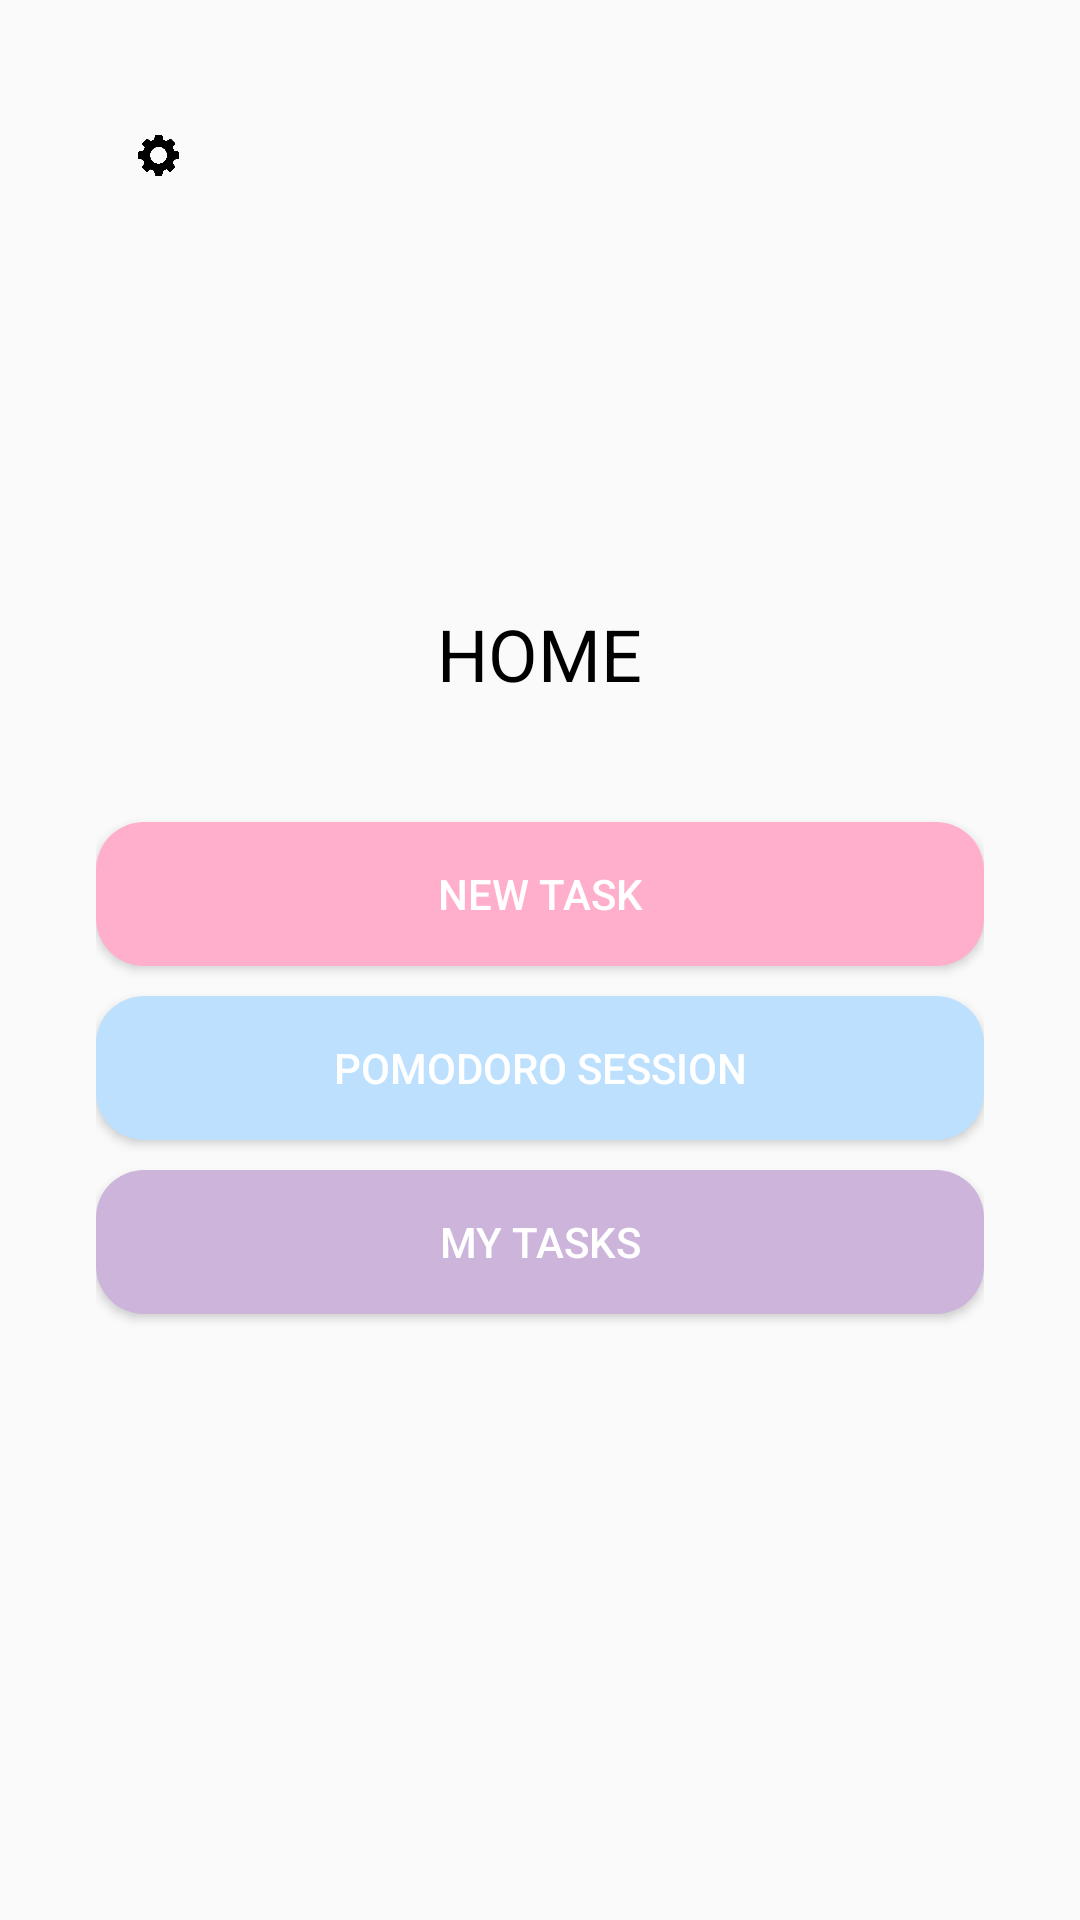

Where to tap for icons on this 1080px x 1920px app screen, as (x=x, y=y):
Notification Settings: (x=158, y=155)
